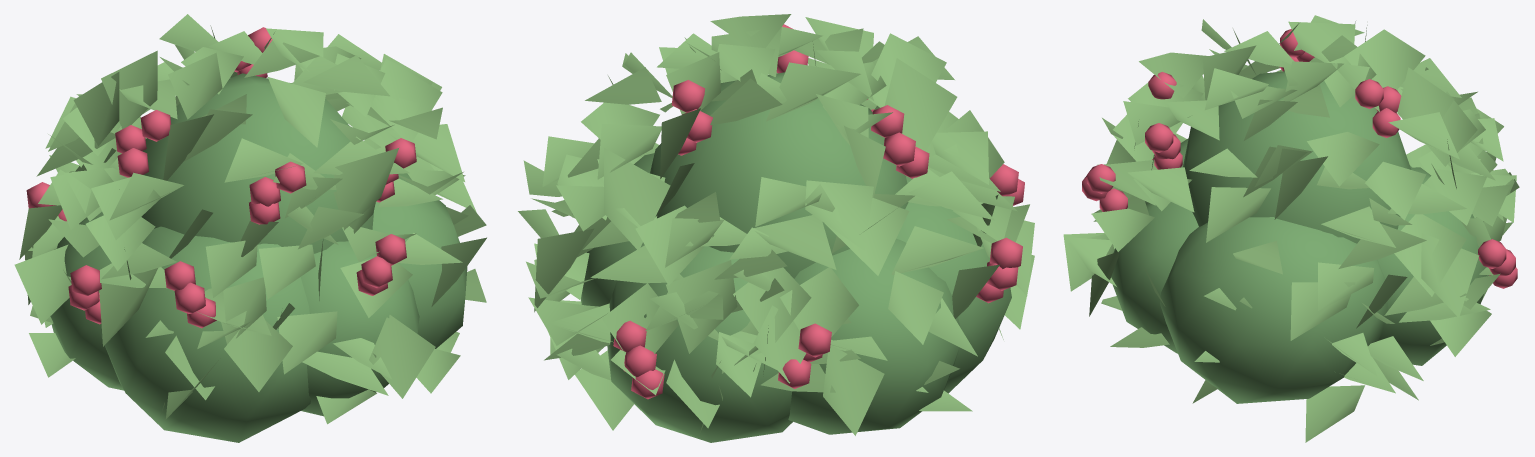
The model's file is plant.berrybush.glb.
The picture shows the model from 3 angles, left to right: view 1: azimuth 30°, elevation 25°; view 2: azimuth 150°, elevation 25°; view 3: azimuth 270°, elevation 25°; orthographic projection. The views are drawn at different scales.
Visible parts, largest first — view 1: Leaf, LeafDark, Berry; view 2: Leaf, LeafDark, Berry; view 3: Leaf, LeafDark, Berry.
Part boxes in pixels (x1,y1,x2,y2): Leaf: (14, 14, 486, 424); LeafDark: (50, 73, 467, 442); Berry: (26, 27, 416, 328); Leaf: (518, 14, 1034, 435); LeafDark: (581, 72, 1011, 442); Berry: (613, 24, 1024, 399); Leaf: (1063, 15, 1519, 442); LeafDark: (1111, 71, 1489, 403); Berry: (1082, 29, 1517, 288).
Bounding box in the file's own units: 0.9717 × 0.7734 × 0.9629.
